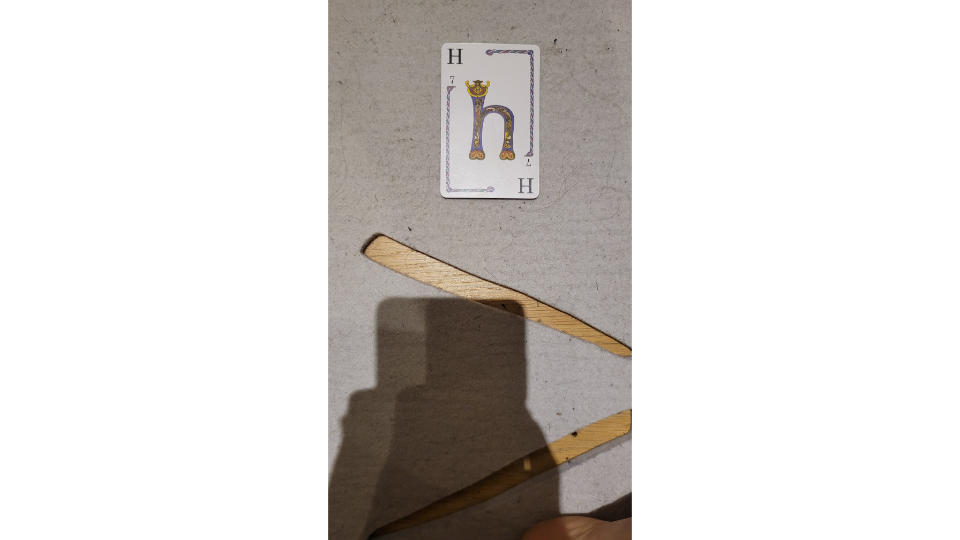H: (436, 41, 547, 205)
